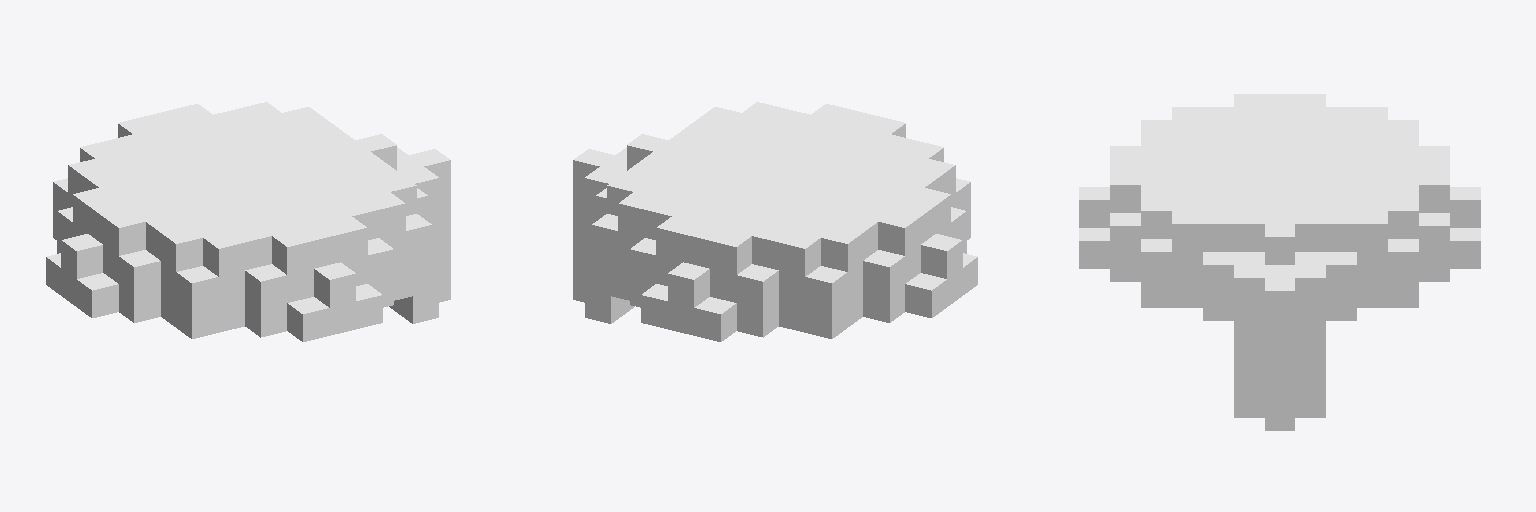
File: kompas2-0.obj
3 views of the same model, side by side, from view 1: azimuth 30°, elevation 25°; view 2: azimuth 150°, elevation 25°; view 3: azimuth 270°, elevation 25° (orthographic).
Parts seen in each view (by area): view 1: object 1; view 2: object 1; view 3: object 1.
Part boxes in pixels (x1,y1,x2,y2): object 1: (46,102,450,341); object 1: (573,102,977,341); object 1: (1079,94,1480,430).
Size of the model in its own units: 1.4 by 0.6 by 1.3.